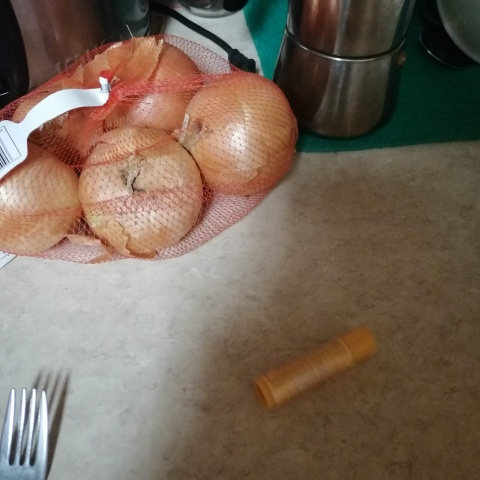chapstick: (252, 325, 378, 411)
